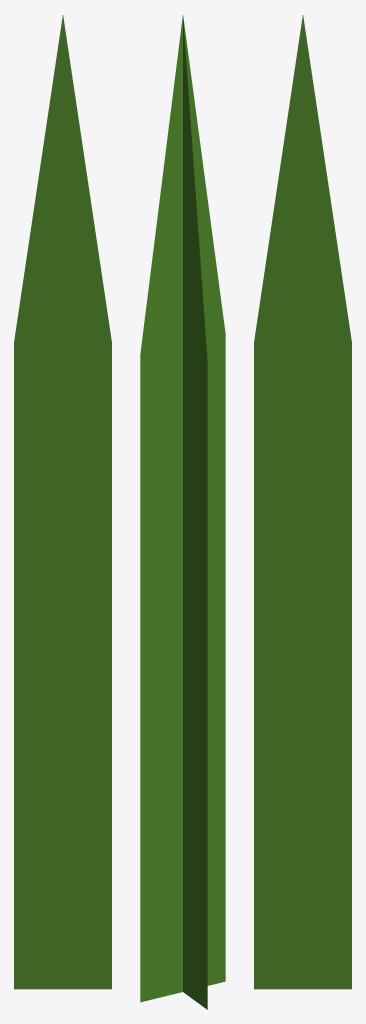
Rendered from rock_kicking_park_grass.glb.
3 views of the same model, side by side, from view 1: azimuth 90°, elevation 25°; view 2: azimuth 210°, elevation 25°; view 3: azimuth 270°, elevation 25° (orthographic).
Parts seen in each view (by area): view 1: Grass; view 2: Grass; view 3: Grass.
Boxes of the visible parts, x1,y1,x2,y2 form: Grass: [14, 15, 111, 989]; Grass: [140, 15, 225, 1009]; Grass: [254, 15, 351, 989].
Size of the model in its own units: 0.1889 by 2.07 by 0.1889.
